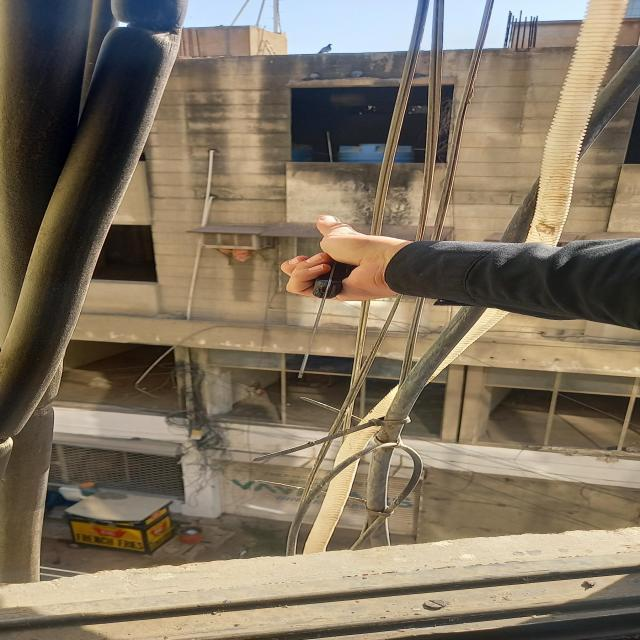faca: (298, 262, 355, 380)
